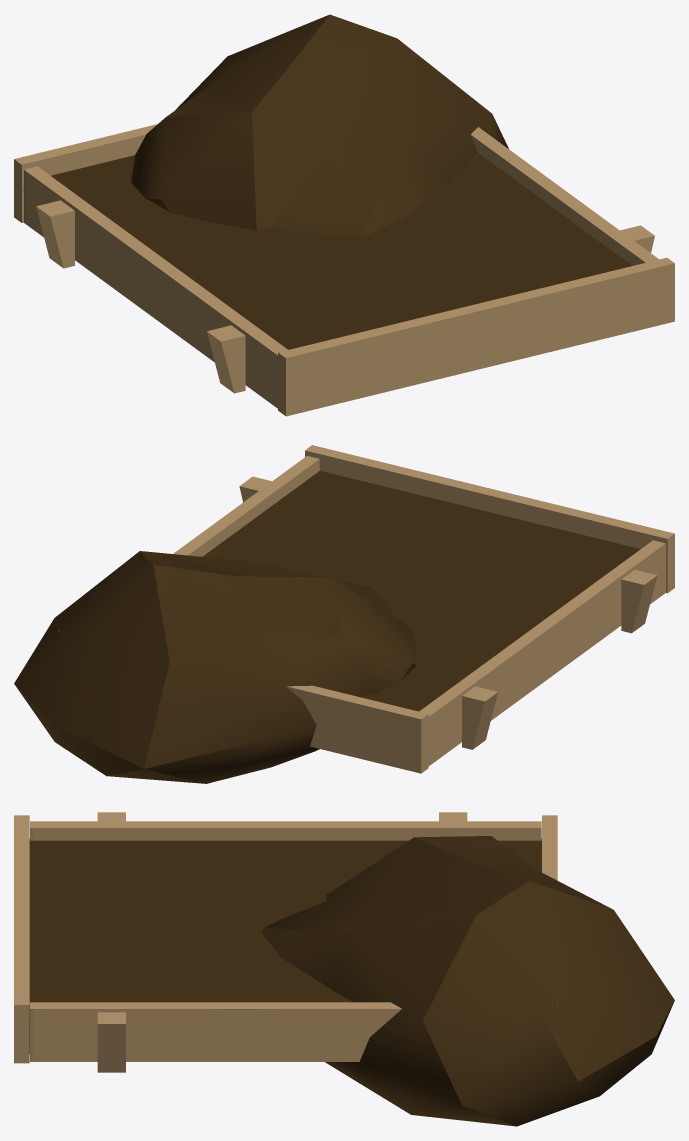
File: moder bak.fbx
3 views of the same model, one above another, from view 1: azimuth 30°, elevation 25°; view 2: azimuth 150°, elevation 25°; view 3: azimuth 270°, elevation 25° (orthographic). The views are drawn at different scales.
Parts seen in each view (by area): view 1: Cube.009, Icosphere.010; view 2: Cube.009, Icosphere.010; view 3: Cube.009, Icosphere.010.
Part boxes in pixels (x1,y1,x2,y2): Cube.009: (14, 124, 674, 416); Icosphere.010: (131, 14, 508, 236); Cube.009: (58, 445, 674, 773); Icosphere.010: (14, 551, 416, 783); Cube.009: (14, 812, 557, 1072); Icosphere.010: (261, 836, 674, 1126).
Bounding box in the file's own units: 489 × 205 × 592.
